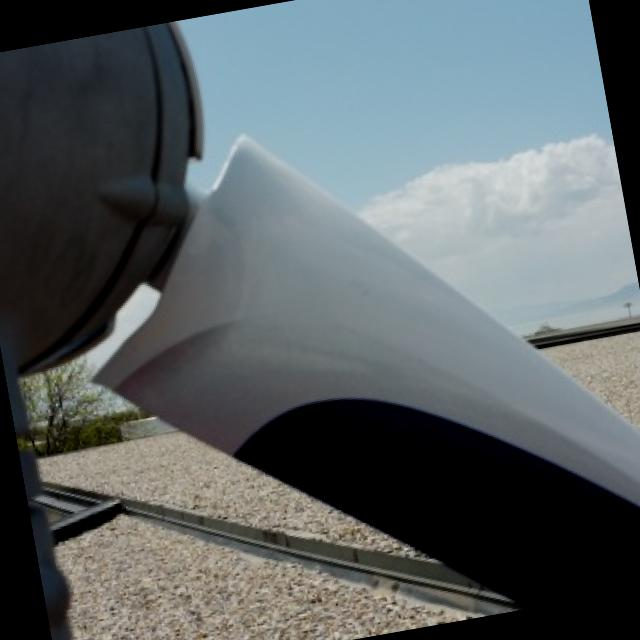healthy: (0, 22, 640, 606)
